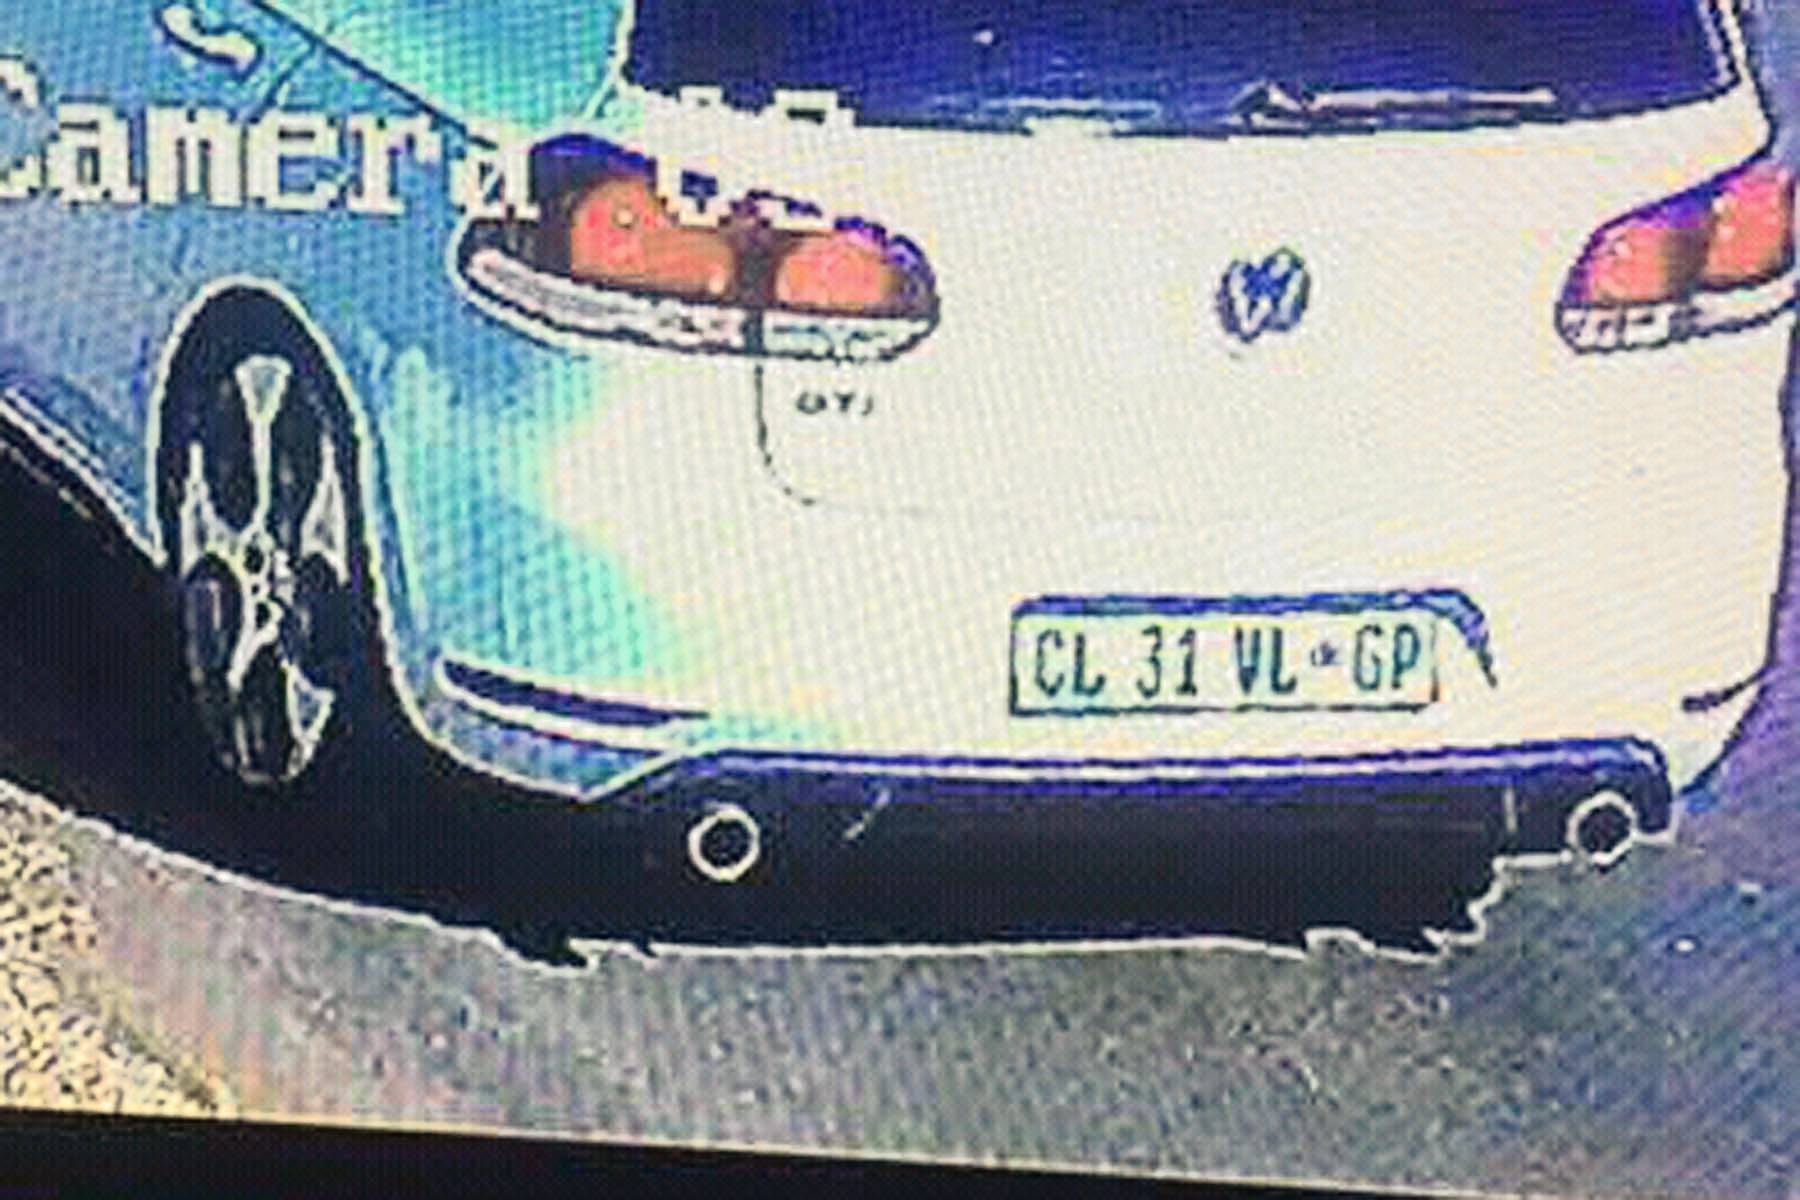number_plate: (1010, 570, 1425, 745)
